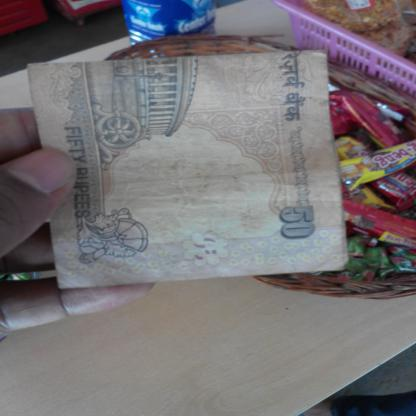Old50Back: (26, 49, 348, 289)
